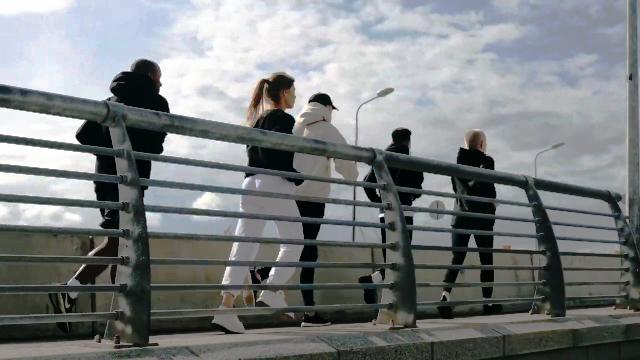berlari: (45, 56, 175, 342), (200, 74, 302, 336), (355, 124, 427, 324), (440, 129, 510, 327)
